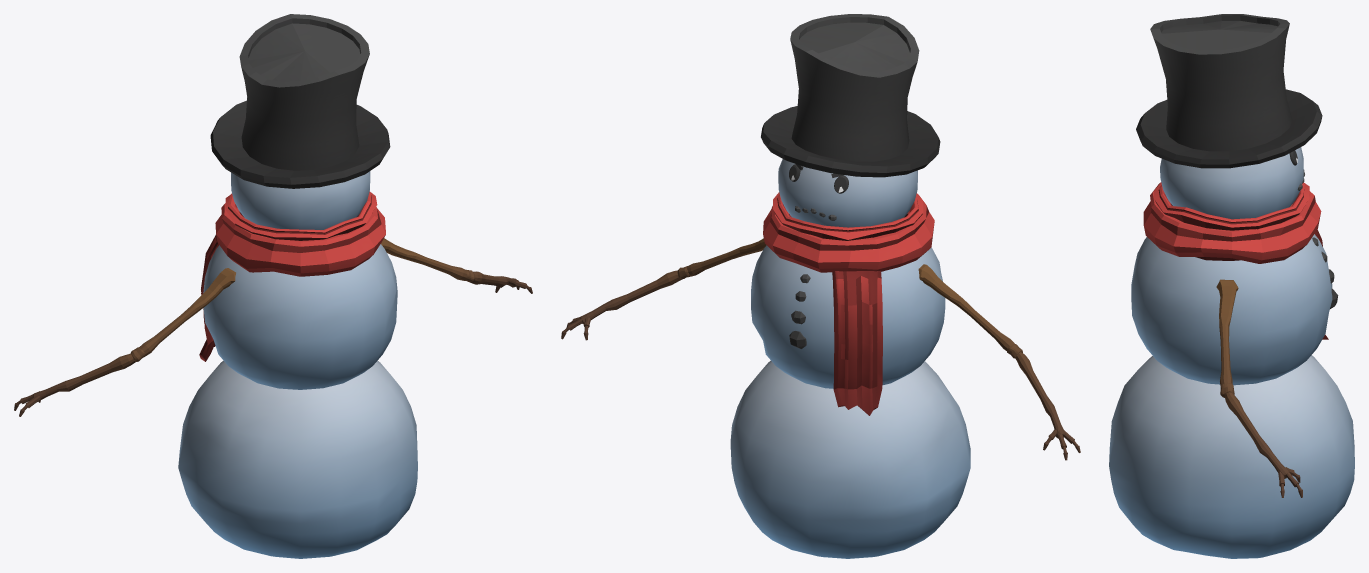
The model's file is snowMan_Character 1.fbx.
The picture shows the model from 3 angles, left to right: view 1: azimuth 30°, elevation 25°; view 2: azimuth 150°, elevation 25°; view 3: azimuth 270°, elevation 25°; orthographic projection. The views are drawn at different scales.
Parts seen in each view (by area): view 1: mouth3; view 2: mouth3; view 3: mouth3.
Boxes of the visible parts, x1,y1,x2,y2 form: mouth3: (14,14,532,558); mouth3: (561,14,1080,558); mouth3: (1109,14,1354,558).
Bounding box in the file's own units: 4.68 × 4.32 × 1.87.
